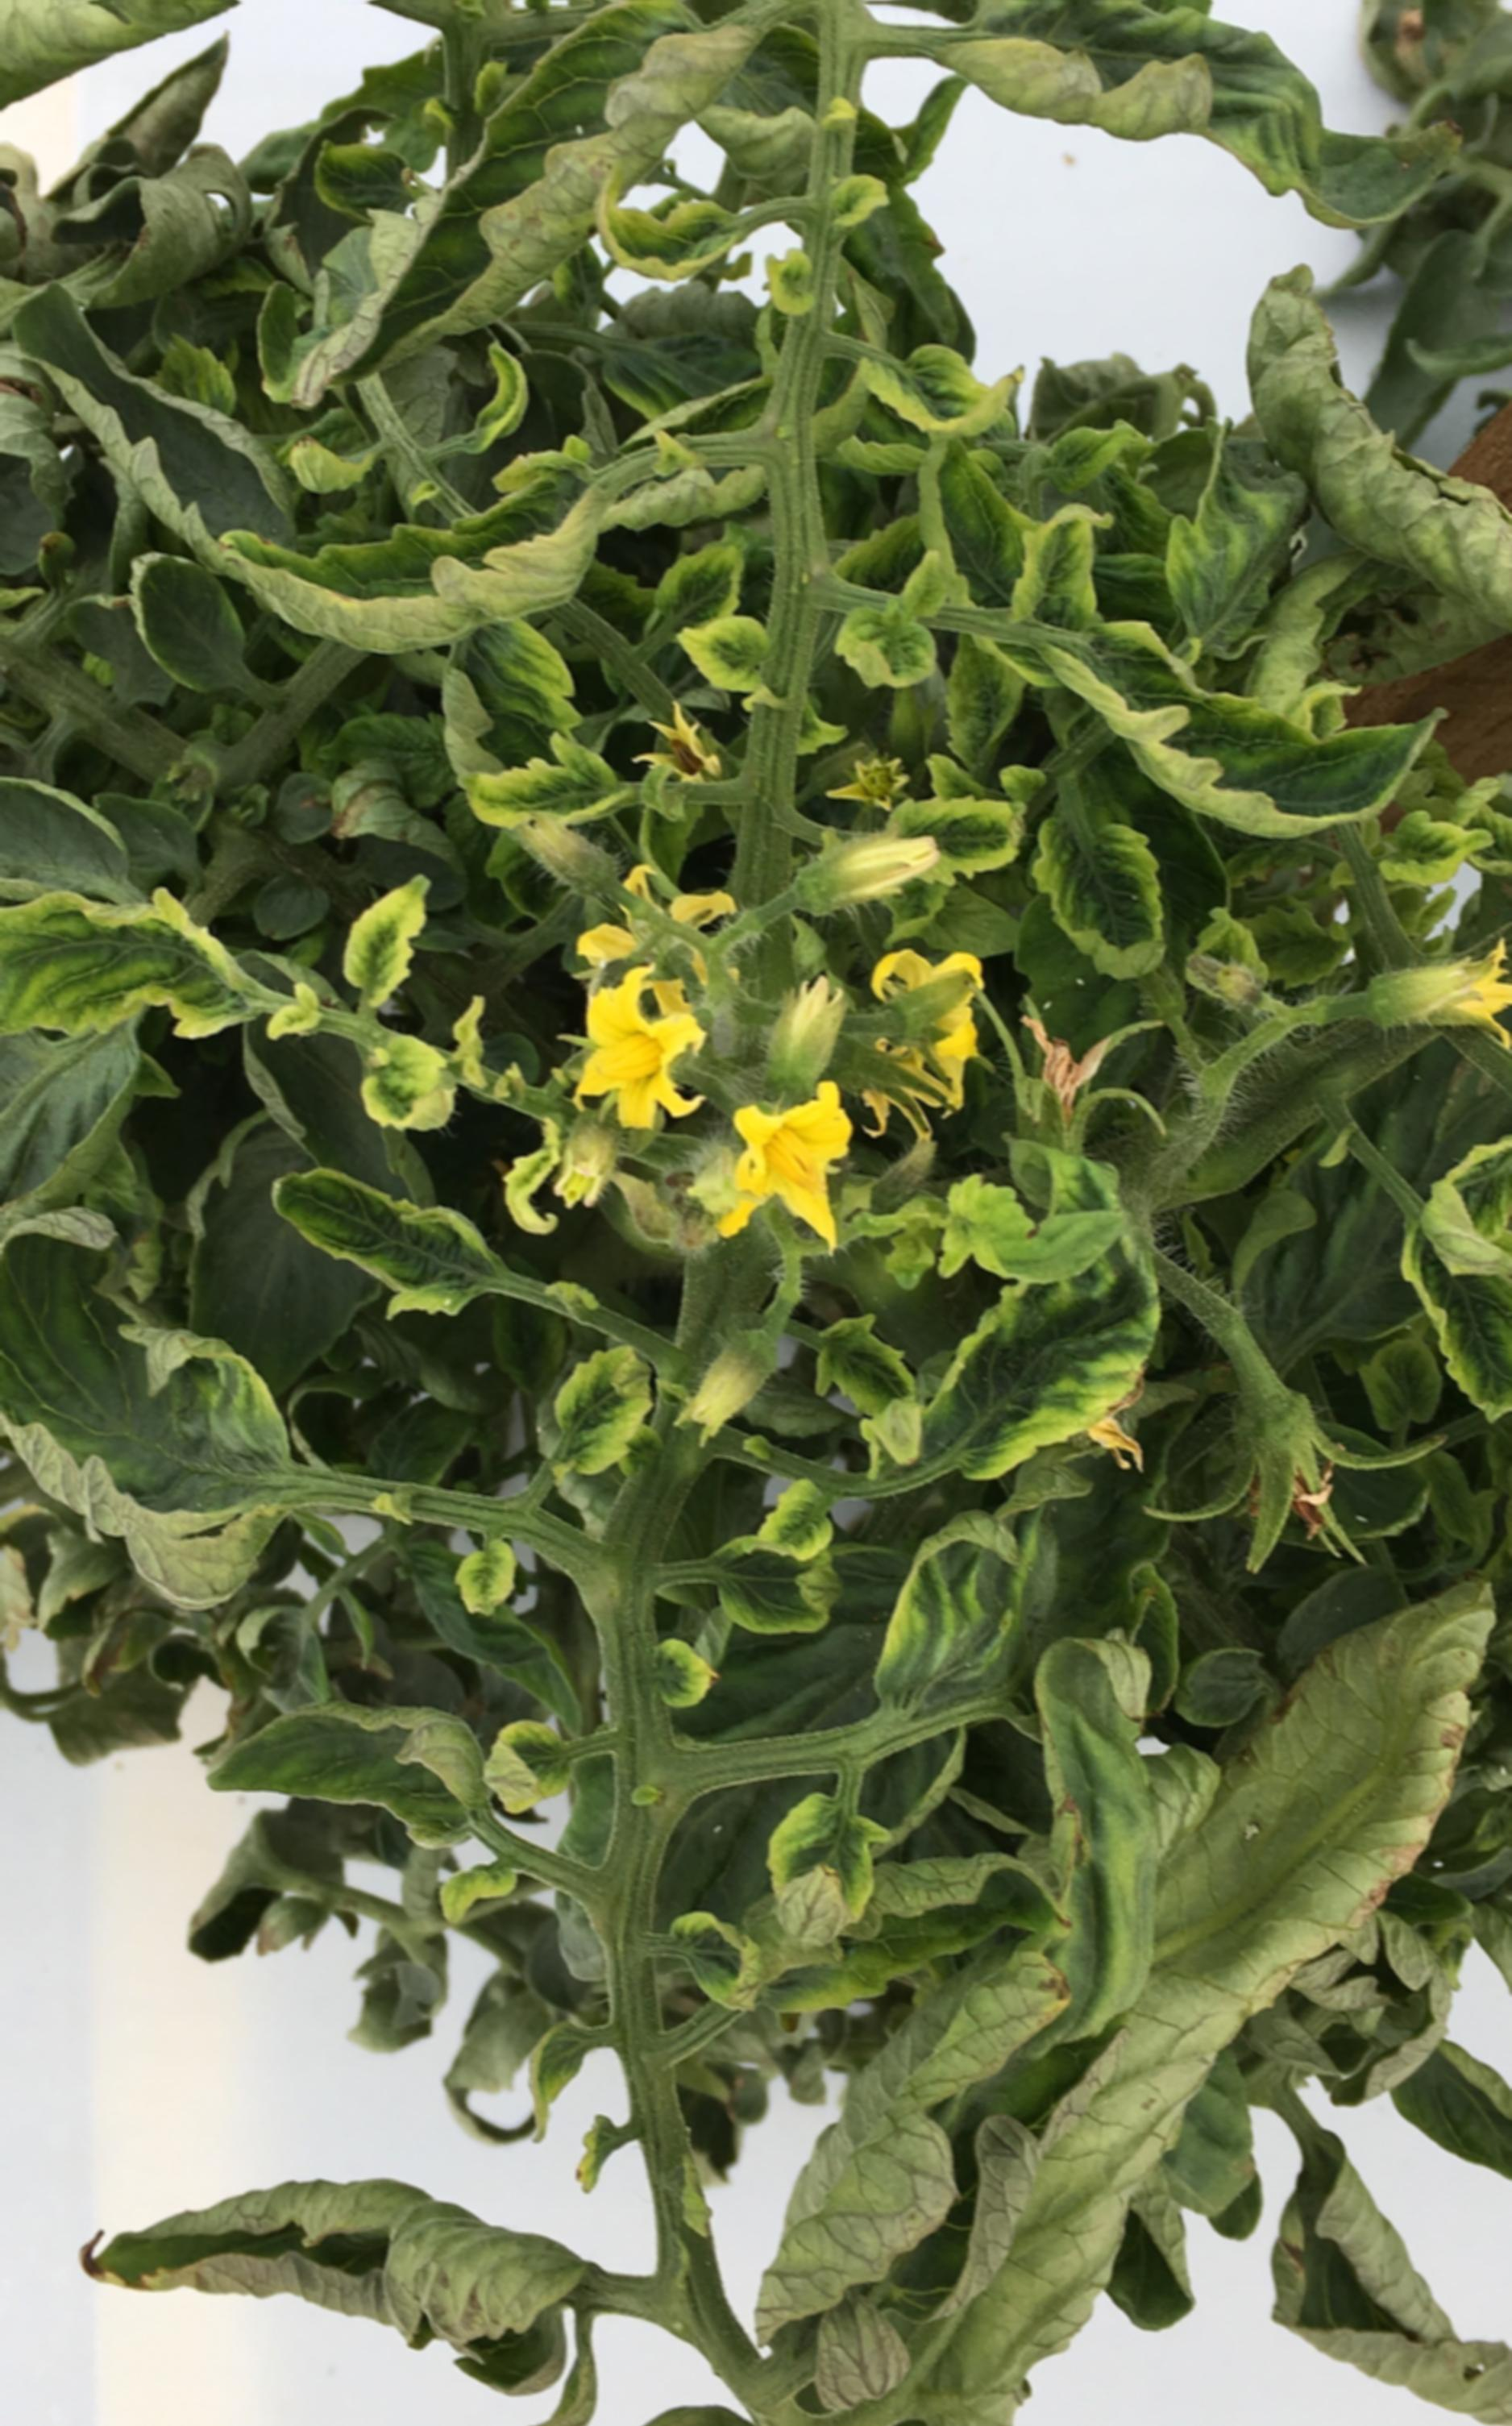Tomato leaf yellow virus: (92, 380, 735, 643), (995, 503, 1449, 859), (0, 1165, 321, 1658), (876, 1130, 1195, 1501), (841, 1411, 1172, 1722), (0, 848, 298, 1155), (1394, 1125, 1512, 1458), (1019, 782, 1200, 977)
